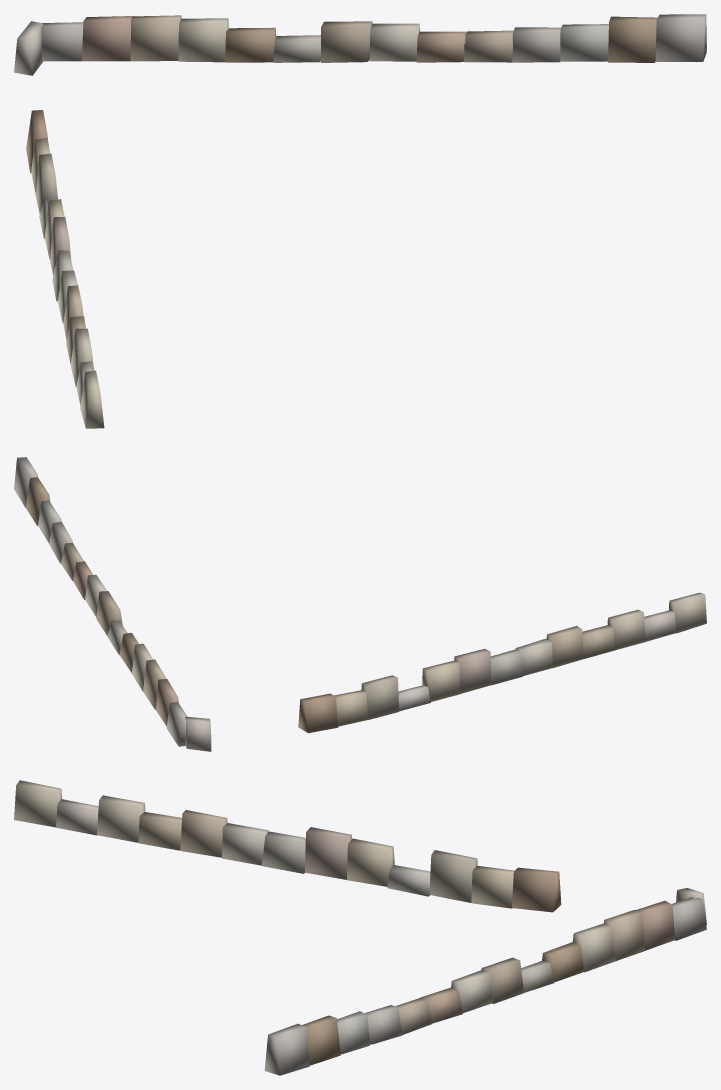
File: farm_-33_-22_far.glb
3 renders of one model, top to bottom at view 1: azimuth 30°, elevation 25°; view 2: azimuth 150°, elevation 25°; view 3: azimuth 270°, elevation 25°, orthographic. The views are drawn at different scales.
Parts seen in each view (by area): view 1: geometry_0; view 2: geometry_0; view 3: geometry_0.
Part boxes in pixels (x1=…): geometry_0: x1=14, y1=14, x2=706, y2=428; geometry_0: x1=14, y1=457, x2=706, y2=751; geometry_0: x1=14, y1=780, x2=706, y2=1075.
Bounding box in the file's own units: 28.21 × 4.63 × 23.79.
